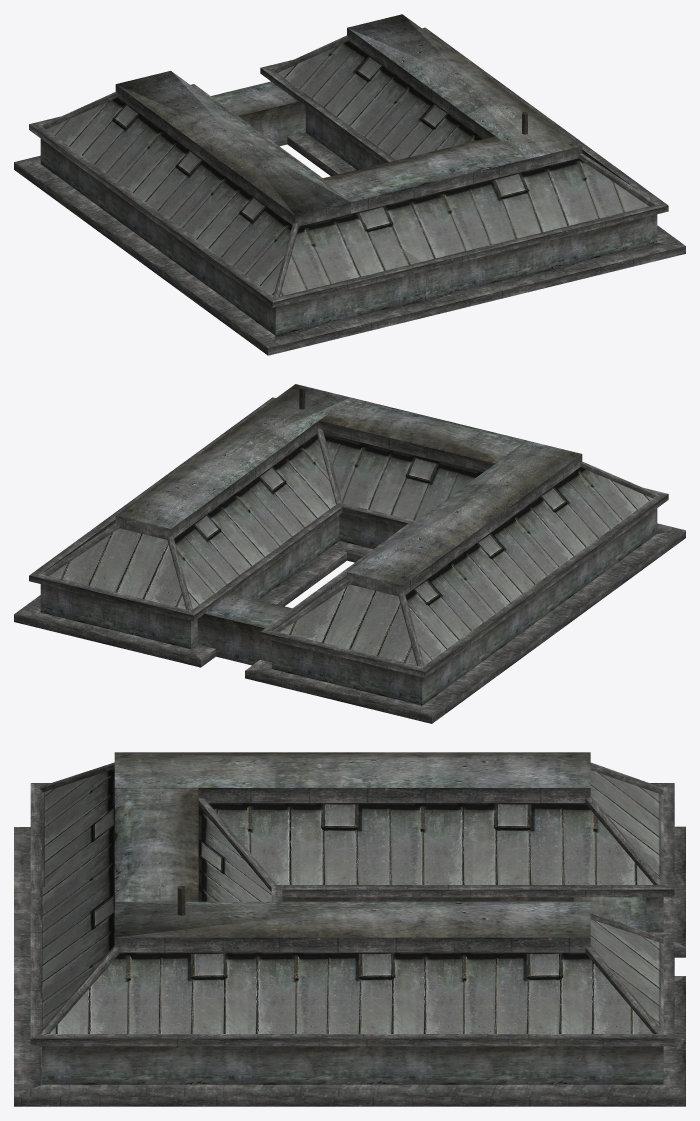
File: skylight02.fbx
3 views of the same model, one above another, from view 1: azimuth 30°, elevation 25°; view 2: azimuth 150°, elevation 25°; view 3: azimuth 270°, elevation 25° (orthographic). The views are drawn at different scales.
Visible parts, largest first — view 1: mesh_0, mesh_1, mesh_2, mesh_3; view 2: mesh_0, mesh_1, mesh_2, mesh_3; view 3: mesh_1, mesh_0, mesh_2, mesh_3.
Boxes of the visible parts, bbox=[...] form: mesh_0: bbox=[14, 71, 685, 355]; mesh_1: bbox=[260, 14, 685, 245]; mesh_2: bbox=[319, 136, 526, 202]; mesh_3: bbox=[211, 81, 305, 146]; mesh_0: bbox=[245, 386, 685, 723]; mesh_1: bbox=[14, 384, 350, 667]; mesh_2: bbox=[319, 397, 526, 463]; mesh_3: bbox=[197, 593, 291, 665]; mesh_1: bbox=[14, 901, 685, 1106]; mesh_0: bbox=[14, 752, 685, 1096]; mesh_2: bbox=[114, 788, 198, 901]; mesh_3: bbox=[574, 897, 646, 931].
Bounding box in the file's own units: 1140 × 308 × 1200.
1 material, 1 textured.
